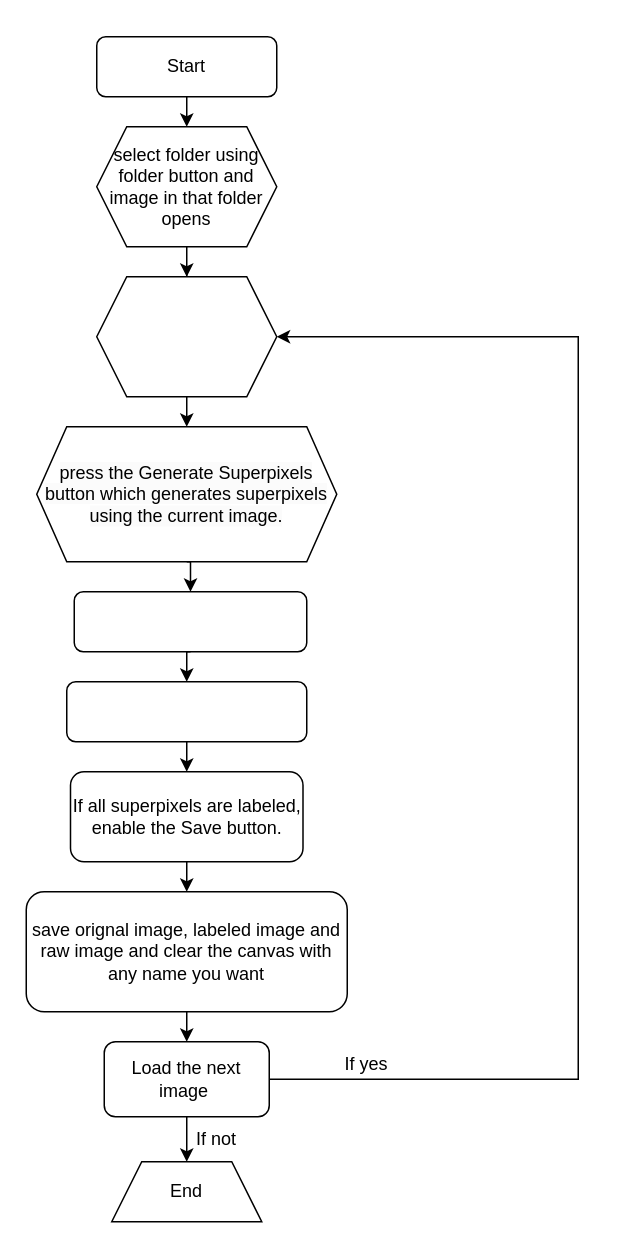
This 617x1248 diagram has some shape labels left out. Each missing label, with the box of its shape:
Set the values of compactness and number of superpixels.: (95, 275, 277, 397)
Shows the segmented image with superpixels.: (73, 590, 307, 652)
User Selects Label and then annotate the superpixels: (65, 680, 307, 742)
